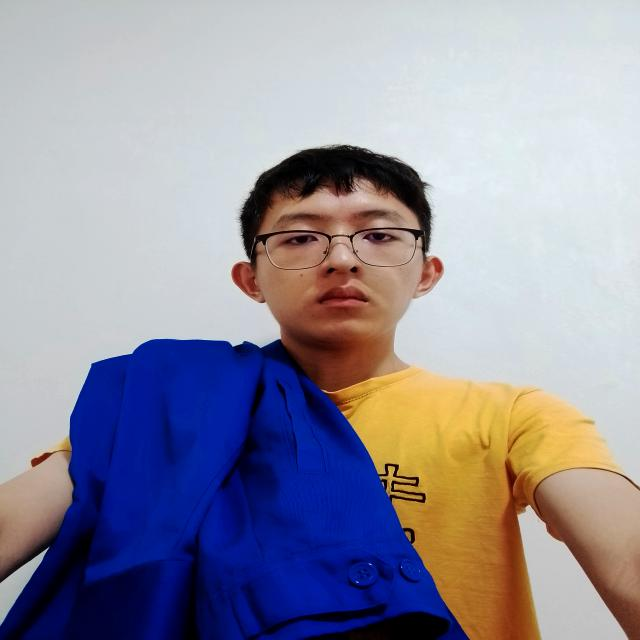person_without_labcoat: (0, 146, 640, 640)
